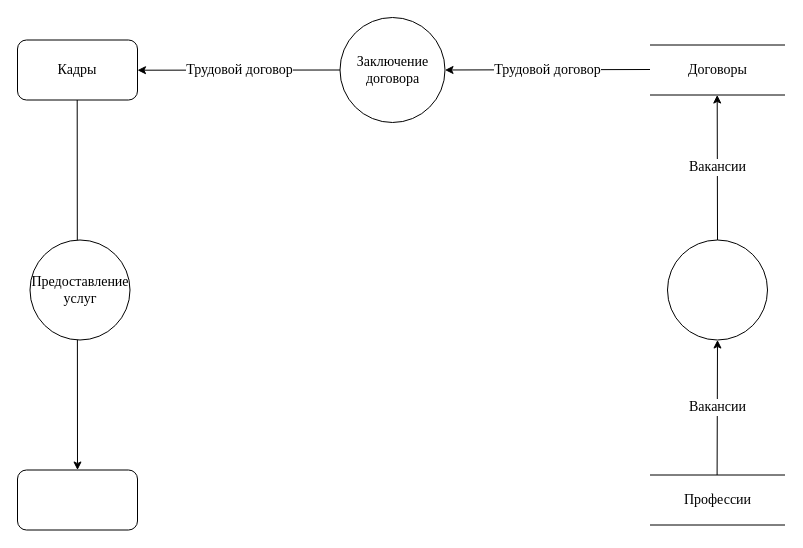
Some shapes in this 803 by 548 pixel diagram are drawn without their labels. Here are the shapes that lost their labels. From the top down, the box of each, then its label:
(666, 239, 768, 340): Подбор кадров
(16, 469, 138, 530): Воспитанники
